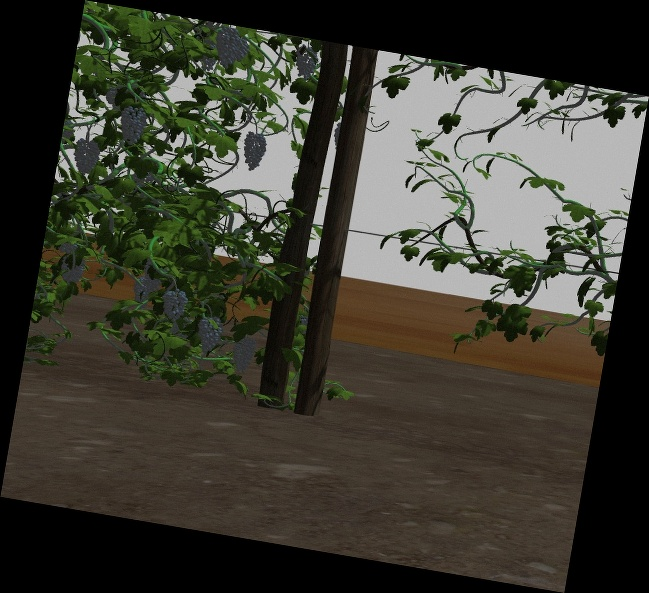grape: (213, 28, 249, 71), (119, 106, 147, 146), (195, 316, 222, 356), (73, 138, 101, 176), (241, 131, 266, 172), (160, 288, 187, 323), (230, 336, 254, 372), (132, 270, 158, 302), (294, 46, 317, 80), (62, 255, 85, 284)
